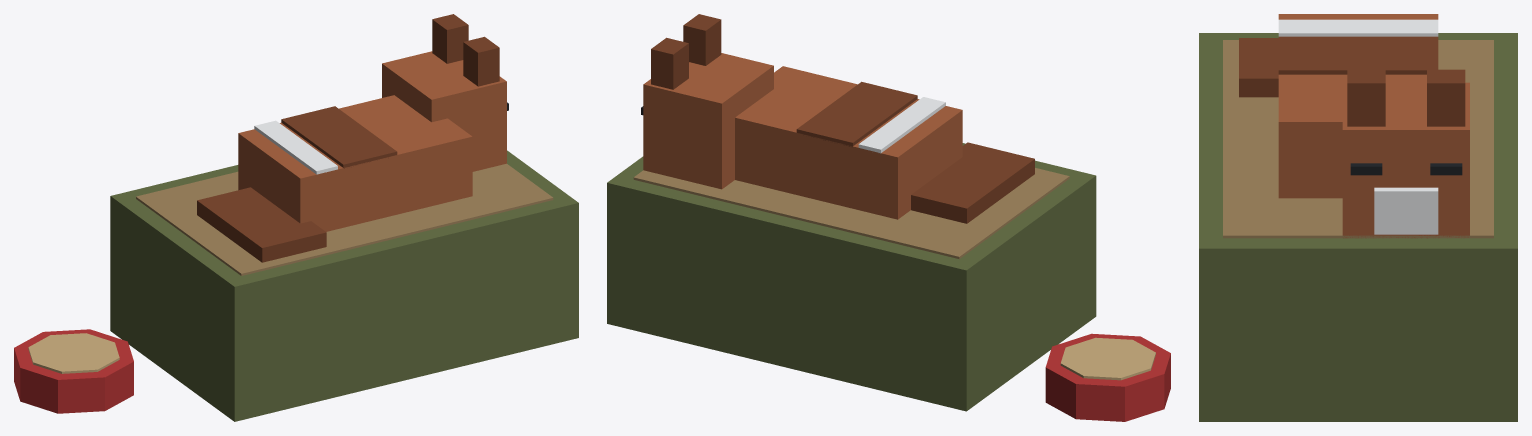
Rendered from egg_carrier_cat.fbx.
The picture shows the model from 3 angles, left to right: view 1: azimuth 30°, elevation 25°; view 2: azimuth 150°, elevation 25°; view 3: azimuth 270°, elevation 25°; orthographic projection. The views are drawn at different scales.
Visible parts, largest first — view 1: egg_carrier_cat; view 2: egg_carrier_cat; view 3: egg_carrier_cat.
Part boxes in pixels (x1=…): egg_carrier_cat: x1=14, y1=14, x2=578, y2=421; egg_carrier_cat: x1=607, y1=14, x2=1170, y2=421; egg_carrier_cat: x1=1199, y1=14, x2=1517, y2=421.
Bounding box in the file's own units: 450 × 225 × 200.
